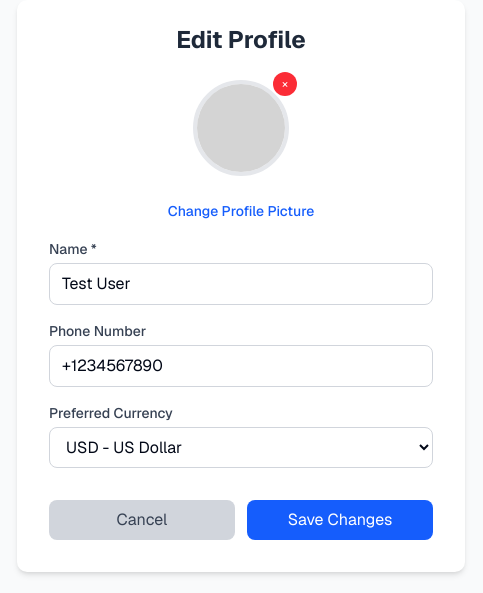
Test case: ProfileEditForm › should disable form during submission
Click the button "Save Changes".
click(340, 520)  # box [247,500,433,540]
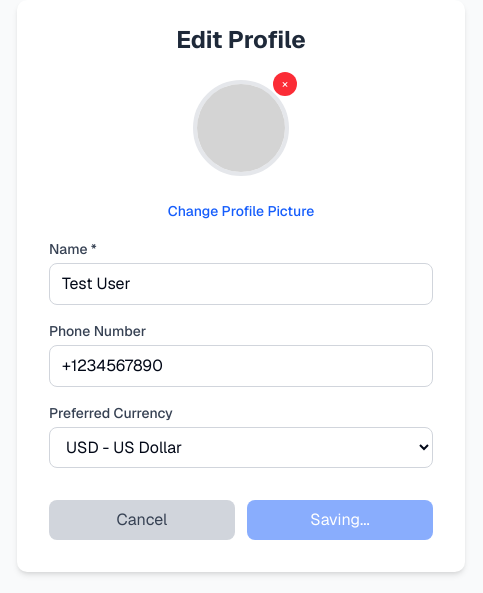
Expected: the field labelled "Name *" is disabled, [49,263,433,305]
Expected: the button "Saving..." is shown, [247,500,433,540]
